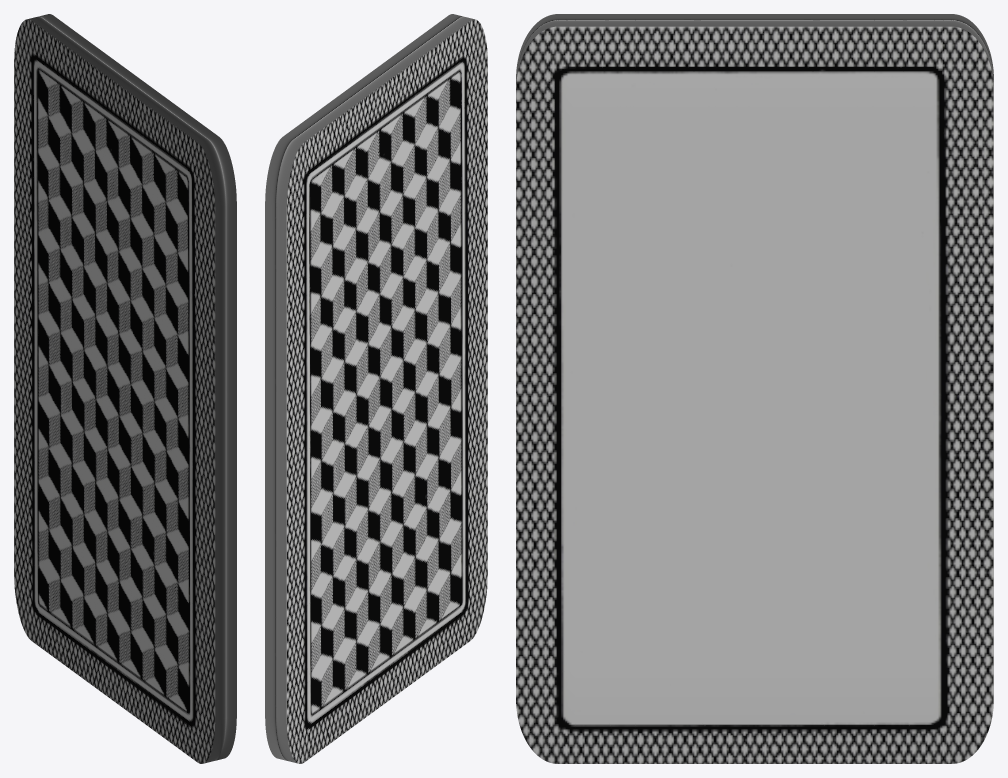
The model's file is Carta.fbx.
3 views of the same model, side by side, from view 1: azimuth 30°, elevation 25°; view 2: azimuth 150°, elevation 25°; view 3: azimuth 270°, elevation 25° (orthographic). The views are drawn at different scales.
Parts seen in each view (by area): view 1: Carta; view 2: Carta; view 3: Carta.
Part boxes in pixels (left/top/right/bottom): Carta: left=14, top=14, right=236, bottom=763; Carta: left=265, top=14, right=487, bottom=763; Carta: left=516, top=14, right=993, bottom=763.
Size of the model in its own units: 10.96 by 300 by 176.
